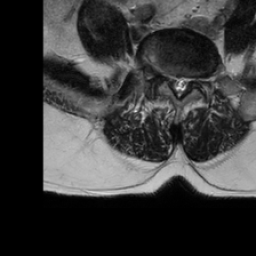CCS_normal: (175, 68, 182, 105)
LFS_severe_stenosis: (189, 67, 197, 90)
LLS_stenosis: (182, 68, 189, 98)
RFS_stenosis: (162, 64, 168, 87)
RLS_severe_stenosis: (168, 66, 175, 95)
